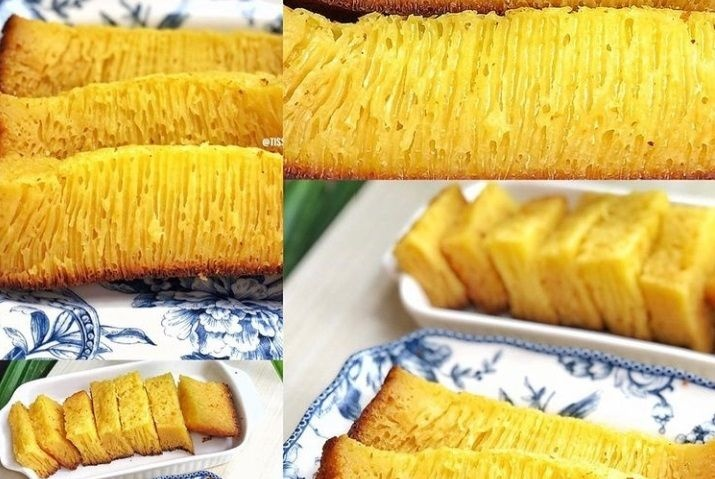bika_ambon: (285, 4, 715, 184), (402, 183, 715, 351), (2, 156, 278, 305), (9, 386, 226, 464)
